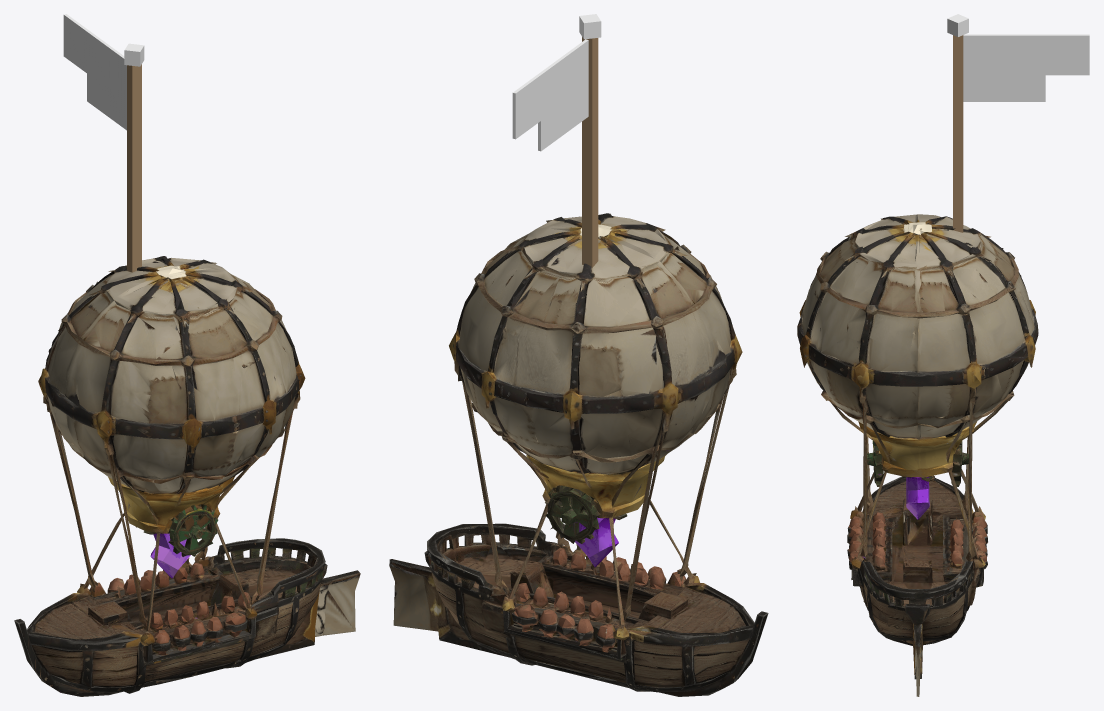
Rendered from war_balloon.glb.
3 views of the same model, side by side, from view 1: azimuth 30°, elevation 25°; view 2: azimuth 150°, elevation 25°; view 3: azimuth 270°, elevation 25° (orthographic). The views are drawn at different scales.
Visible parts, largest first — view 1: war_balloon, Team_pennant; view 2: war_balloon, Team_pennant; view 3: war_balloon, Team_pennant.
Part boxes in pixels (x1,y1,x2,y2): war_balloon: (14, 256, 360, 696); Team_pennant: (63, 14, 144, 272); war_balloon: (389, 213, 768, 696); Team_pennant: (512, 14, 601, 267); war_balloon: (797, 214, 1038, 696); Team_pennant: (947, 14, 1089, 232).
Bounding box in the file's own units: 1.66 × 2.86 × 1.29.
Materials: 3 (1 with a texture image).
